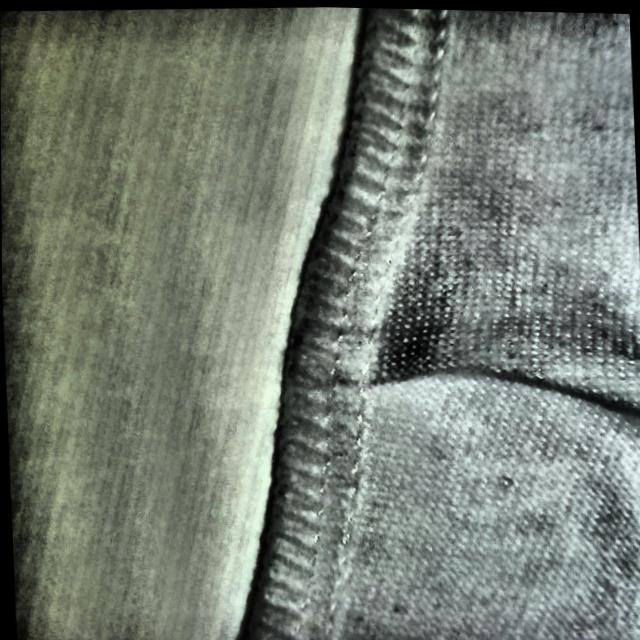seam: (274, 266, 616, 453)
